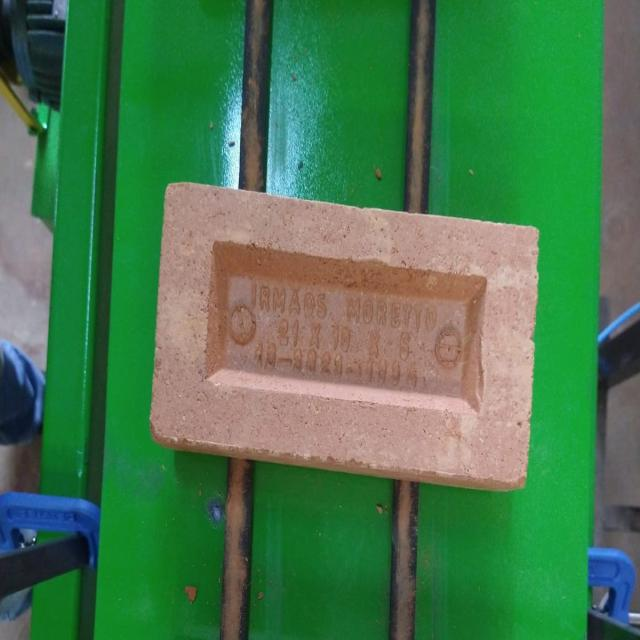bricks: (149, 181, 539, 492)
